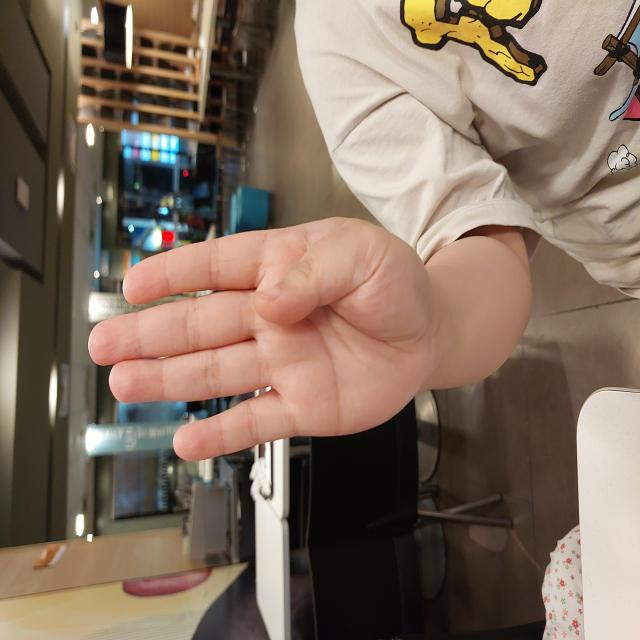B: (176, 87, 426, 436)
